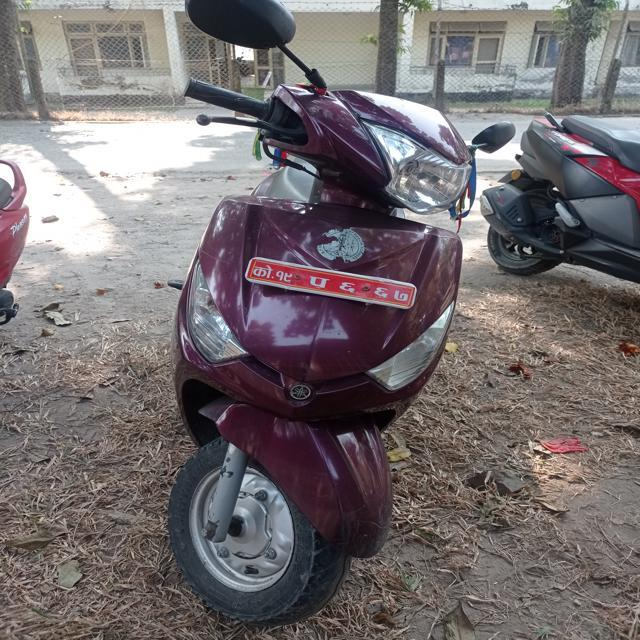license_plate: (239, 248, 439, 320)
